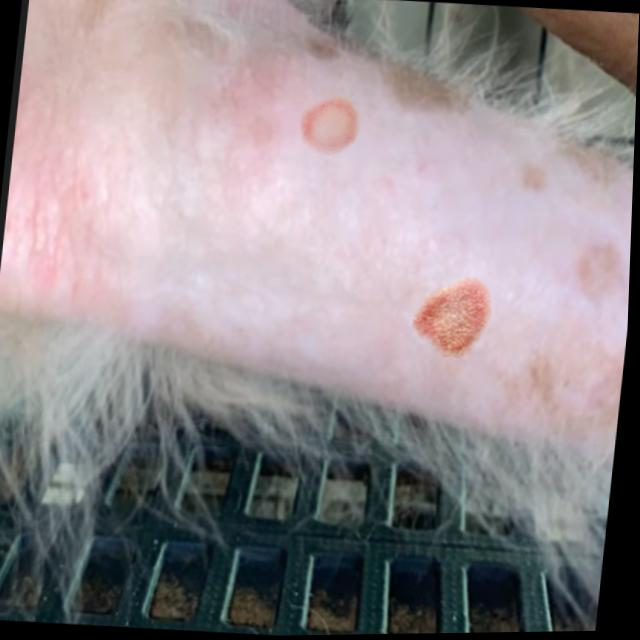ringworm: (404, 269, 499, 374), (286, 86, 373, 166)
